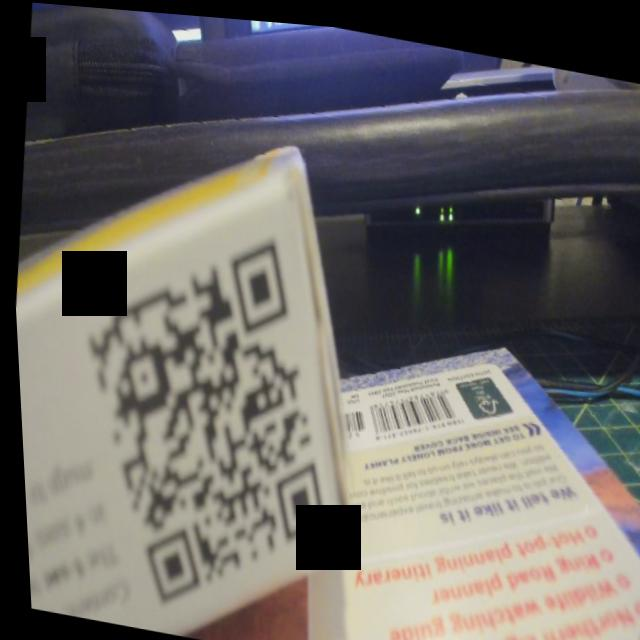QR_CODE: (37, 138, 378, 640)
